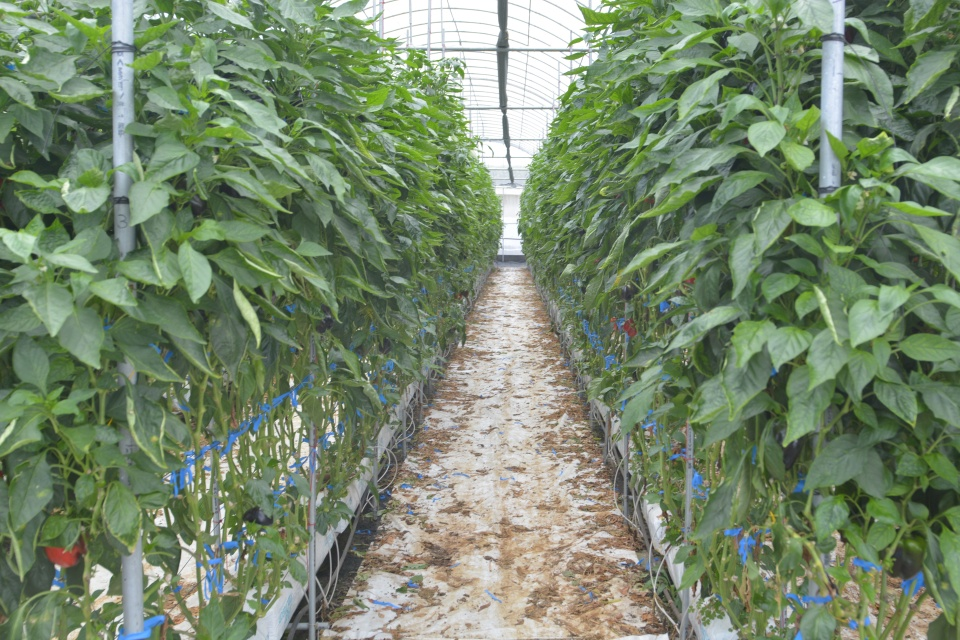fruit: (880, 526, 927, 579), (43, 534, 87, 567), (172, 176, 206, 218), (774, 425, 802, 471), (242, 504, 274, 528), (315, 303, 333, 332), (616, 282, 637, 301), (378, 336, 395, 354), (623, 317, 636, 337)
pedicle: (901, 529, 914, 539)
